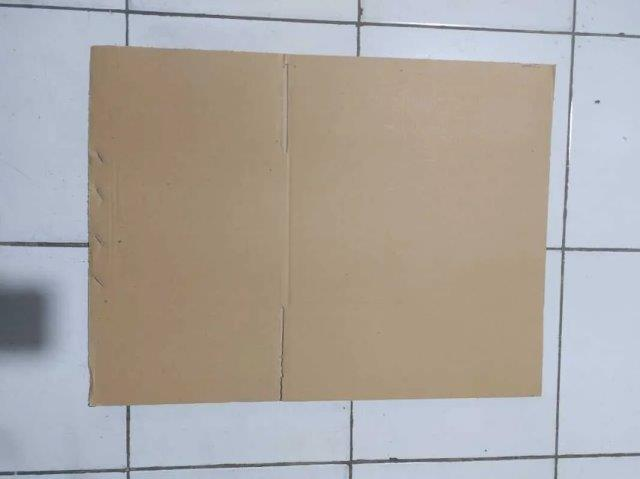kardus: (92, 45, 537, 390)
